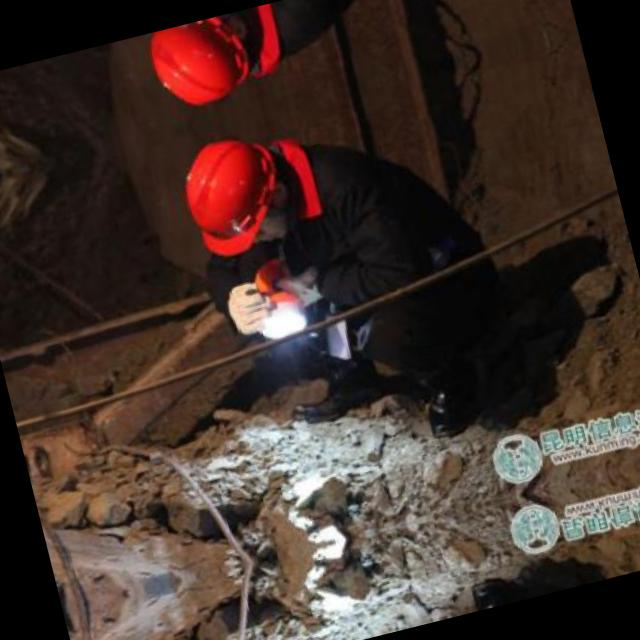helmet: (162, 118, 308, 262), (133, 7, 274, 123)
